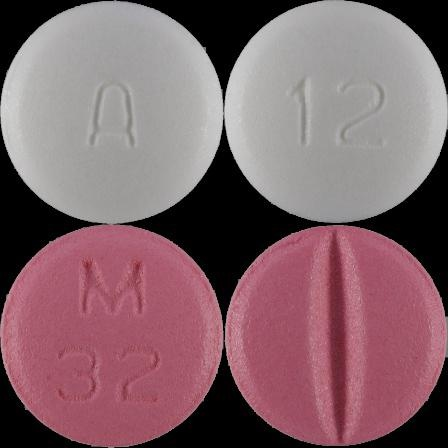0615-8015: (0, 0, 224, 224)
